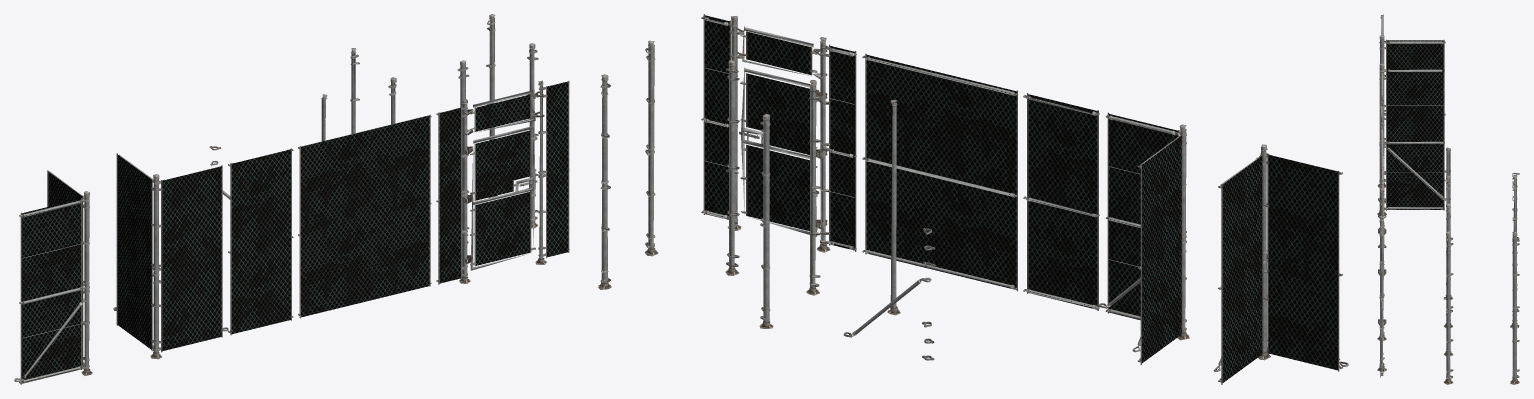
The model's file is modular_chainlink_fence.glb.
3 views of the same model, side by side, from view 1: azimuth 30°, elevation 25°; view 2: azimuth 150°, elevation 25°; view 3: azimuth 270°, elevation 25° (orthographic). The views are drawn at different scales.
Parts seen in each view (by area): view 1: modular_chainlink_fence_double, modular_chainlink_fence_corner_outer, modular_chainlink_fence_corner_inner, modular_chainlink_fence_door_frame, modular_chainlink_fence, modular_chainlink_fence_door_gate, modular_chainlink_fence_start_01_corner_01, modular_chainlink_fence_start_01_corner_02, modular_chainlink_fence_end_02; view 2: modular_chainlink_fence_double, modular_chainlink_fence_corner_inner, modular_chainlink_fence_corner_outer, modular_chainlink_fence_door_frame, modular_chainlink_fence, modular_chainlink_fence_door_gate, modular_chainlink_fence_end_02, modular_chainlink_post_middle, modular_chainlink_fence_start_01_corner_01, modular_chainlink_fence_end_01, modular_chainlink_fence_start_01_corner_02, modular_chainlink_fence_post; view 3: modular_chainlink_fence_corner_outer, modular_chainlink_fence_corner_inner, modular_chainlink_fence_door_frame, modular_chainlink_fence_start_01_corner_02, modular_chainlink_fence_start_01_corner_01, modular_chainlink_post_middle, modular_chainlink_fence_end_02, modular_chainlink_fence_post, modular_chainlink_fence_double, modular_chainlink_fence_end_01.
Boxes of the visible parts, x1,y1,x2,y2 form: modular_chainlink_fence_double: (298,114,431,318); modular_chainlink_fence_corner_outer: (113,153,228,359); modular_chainlink_fence_corner_inner: (14,170,92,384); modular_chainlink_fence_door_frame: (436,80,569,284); modular_chainlink_fence: (228,148,293,335); modular_chainlink_fence_door_gate: (470,126,536,270); modular_chainlink_fence_start_01_corner_01: (527,43,538,228); modular_chainlink_fence_start_01_corner_02: (486,14,497,197); modular_chainlink_fence_end_02: (350,48,359,133); modular_chainlink_fence_double: (862,53,1017,291); modular_chainlink_fence_corner_inner: (1213,144,1348,384); modular_chainlink_fence_corner_outer: (1098,112,1189,364); modular_chainlink_fence_door_frame: (701,14,856,252); modular_chainlink_fence: (1023,93,1099,310); modular_chainlink_fence_door_gate: (740,67,817,236); modular_chainlink_fence_end_02: (759,114,773,328); modular_chainlink_post_middle: (725,60,739,275); modular_chainlink_fence_start_01_corner_01: (644,40,658,256); modular_chainlink_fence_end_01: (806,80,820,295); modular_chainlink_fence_start_01_corner_02: (598,74,611,289); modular_chainlink_fence_post: (887,99,900,315); modular_chainlink_fence_corner_outer: (1377,63,1450,221); modular_chainlink_fence_corner_inner: (1377,14,1450,187); modular_chainlink_fence_door_frame: (1377,182,1386,377); modular_chainlink_fence_start_01_corner_02: (1510,231,1519,384); modular_chainlink_fence_start_01_corner_01: (1443,231,1453,384); modular_chainlink_post_middle: (1443,203,1452,355); modular_chainlink_fence_end_02: (1510,175,1519,328); modular_chainlink_fence_post: (1443,147,1453,299); modular_chainlink_fence_double: (1380,126,1383,317); modular_chainlink_fence_end_01: (1443,175,1452,327).
Size of the model in its own units: 8.11 by 2.52 by 2.15.
2 materials, 2 textured.
